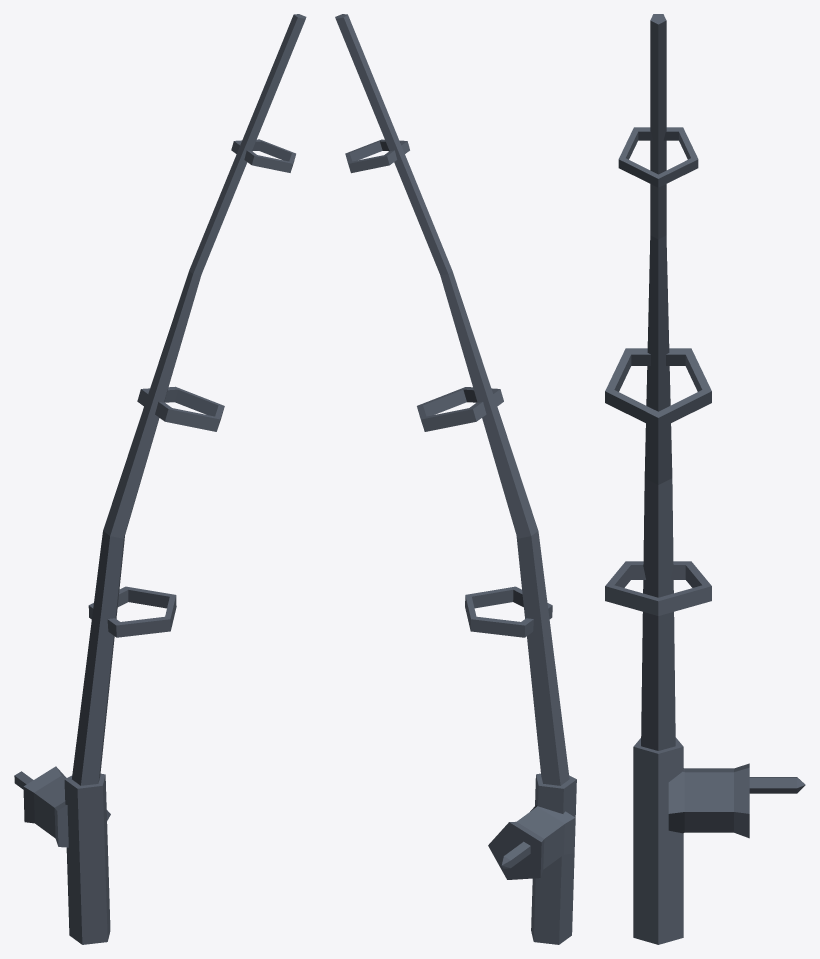
Rendered from fishingRod2-compressed.glb.
The picture shows the model from 3 angles, left to right: view 1: azimuth 30°, elevation 25°; view 2: azimuth 150°, elevation 25°; view 3: azimuth 270°, elevation 25°; orthographic projection. The views are drawn at different scales.
Parts seen in each view (by area): view 1: fishingRod2; view 2: fishingRod2; view 3: fishingRod2.
Boxes of the visible parts, x1=… form: fishingRod2: x1=14, y1=14, x2=306, y2=944; fishingRod2: x1=335, y1=14, x2=576, y2=944; fishingRod2: x1=605, y1=14, x2=805, y2=944.
Size of the model in its own units: 0.4414 by 1.5 by 0.2623.
